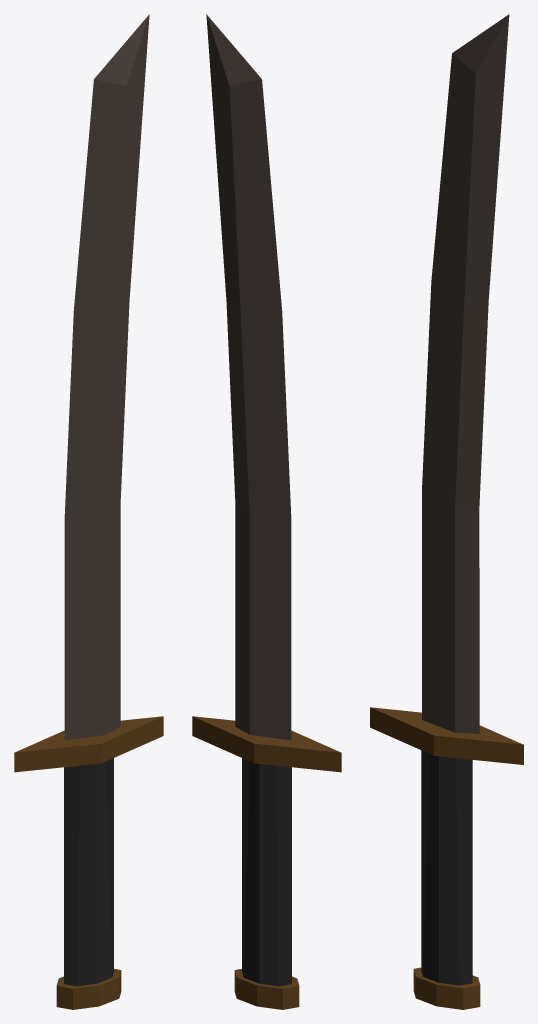
File: 4 katana.fbx
3 renders of one model, left to right at view 1: azimuth 30°, elevation 25°; view 2: azimuth 150°, elevation 25°; view 3: azimuth 330°, elevation 25°, orthographic. The views are drawn at different scales.
Parts seen in each view (by area): view 1: Knife, rukoyat; view 2: Knife, rukoyat; view 3: Knife, rukoyat.
Boxes of the visible parts, x1,y1,x2,y2 form: Knife: [64, 14, 149, 740]; rukoyat: [14, 716, 163, 1009]; Knife: [206, 14, 291, 740]; rukoyat: [192, 716, 341, 1009]; Knife: [422, 14, 509, 733]; rukoyat: [370, 707, 523, 1009].
Size of the model in its own units: 395 by 2452 by 116.
